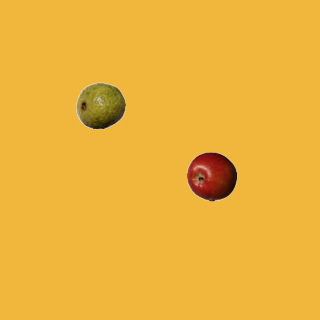Apple Braeburn: (186, 151, 236, 201)
Guava: (75, 80, 125, 130)
